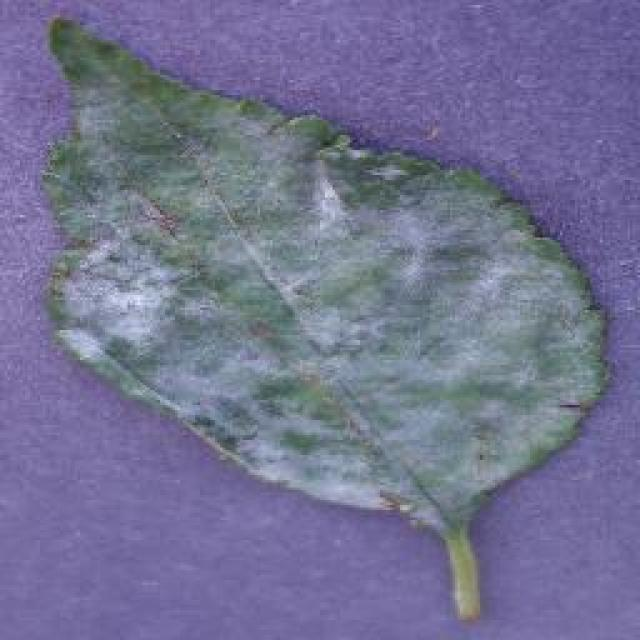Cherry___Powdery_mildew: (30, 5, 618, 635)
